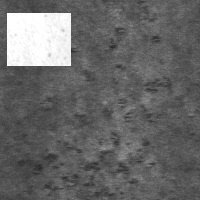pitted_surface: (7, 13, 71, 66)
rolled-in_scale: (31, 91, 161, 200), (109, 1, 161, 50)
